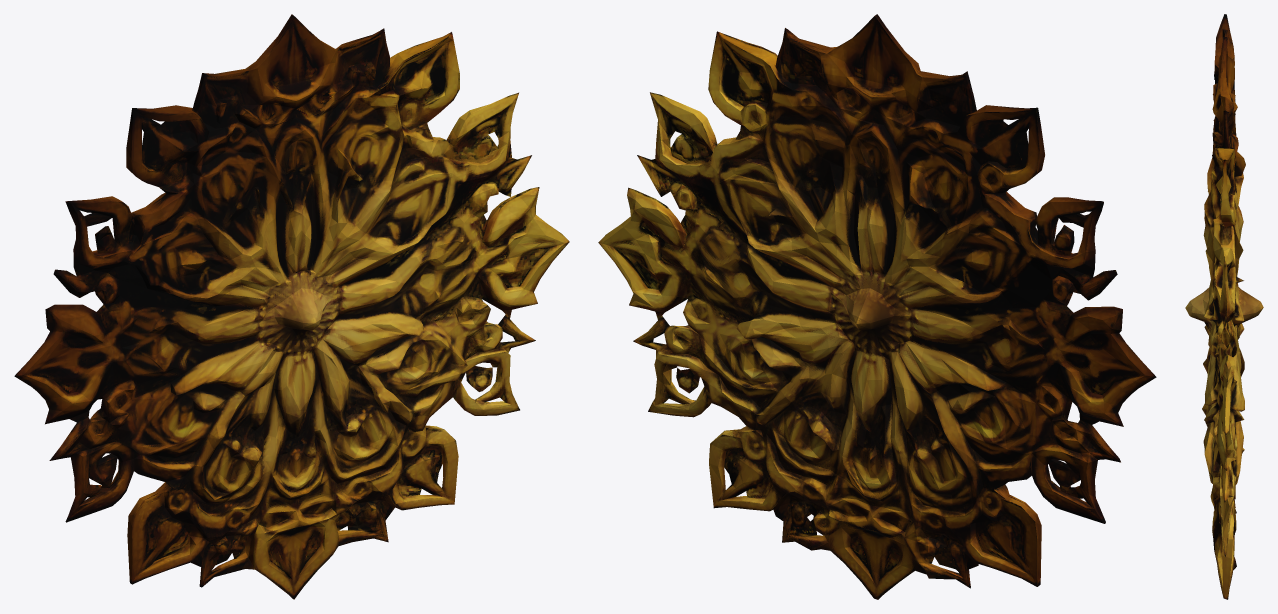
Rendered from wooden-mandala-carving-3d.jpeg.glb.
3 views of the same model, side by side, from view 1: azimuth 30°, elevation 25°; view 2: azimuth 150°, elevation 25°; view 3: azimuth 270°, elevation 25° (orthographic). The views are drawn at different scales.
Parts seen in each view (by area): view 1: world; view 2: world; view 3: world.
Boxes of the visible parts, box(x1,y1,x2,y2) form: world: box(14, 14, 569, 599); world: box(598, 14, 1156, 599); world: box(1185, 14, 1263, 599).
Size of the model in its own units: 0.9975 by 1 by 0.1316.
1 material, 1 textured.
